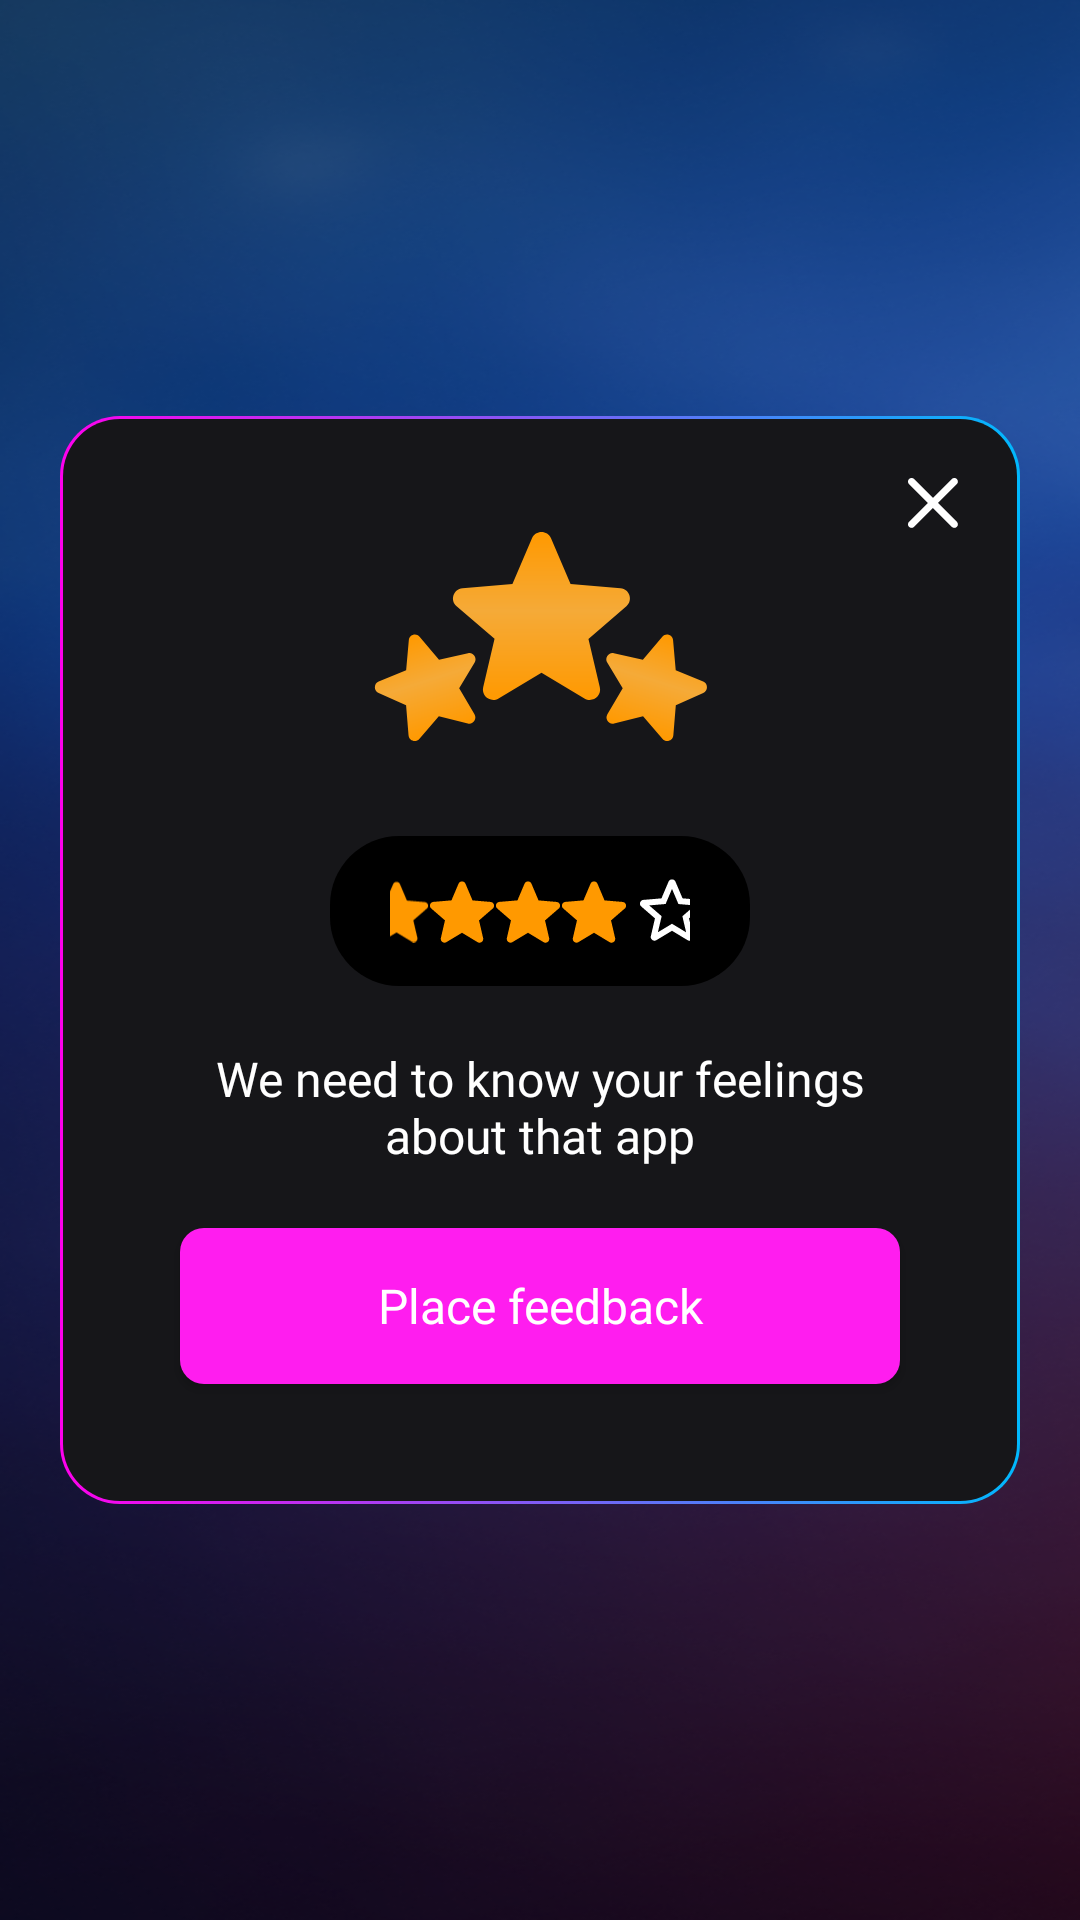

Locate icon controls on the screen. Image size 1080px x 1920px, boxes as [left=x1, top=y1, right=x2, bottom=y2].
Close: [left=908, top=478, right=958, bottom=528]
stars: [left=374, top=532, right=707, bottom=741]
